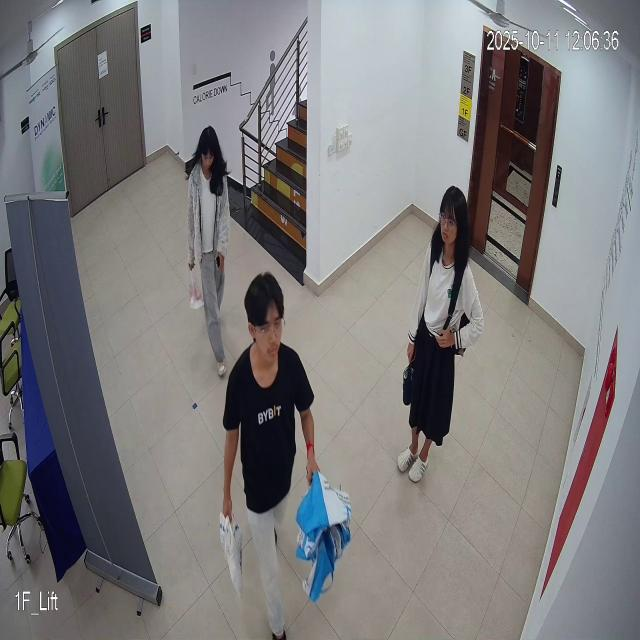face: (242, 262, 288, 364), (436, 181, 468, 266), (192, 120, 224, 182)
